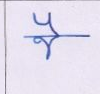ai_matra: (34, 13, 62, 34)
